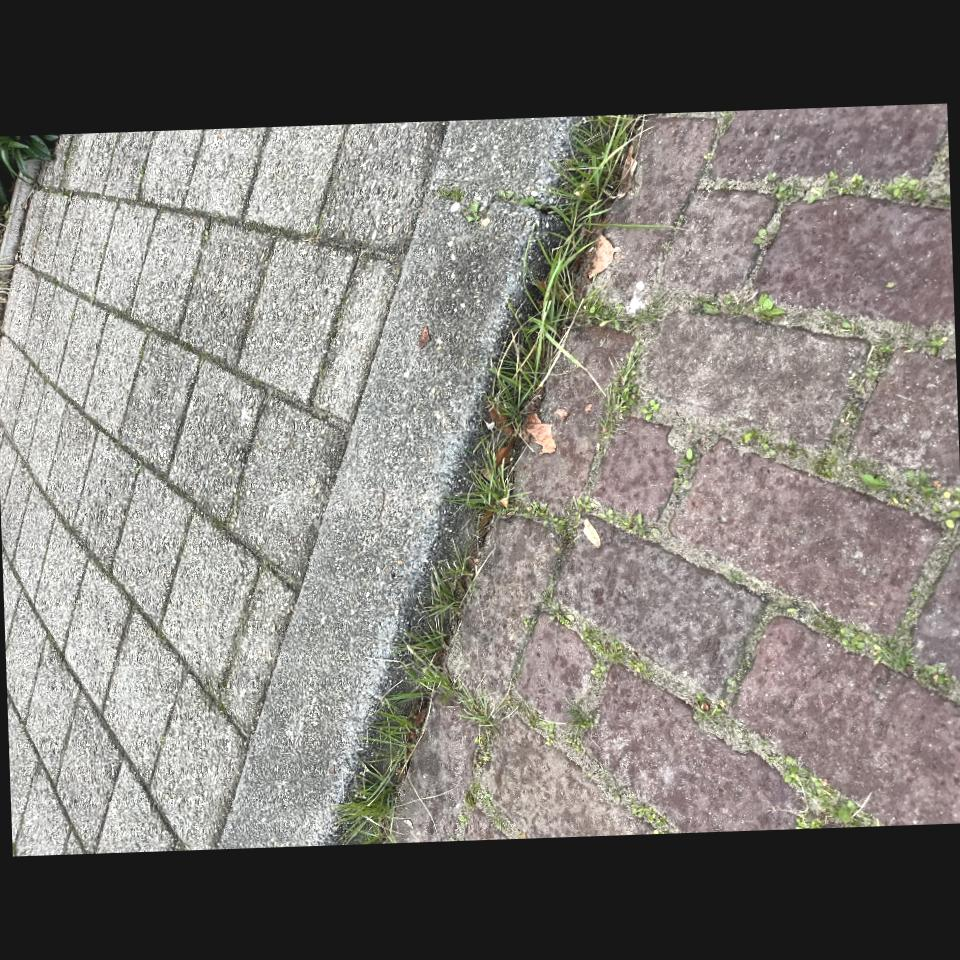weed: (488, 114, 642, 430), (333, 556, 470, 845), (453, 223, 579, 512), (840, 627, 960, 703), (766, 756, 879, 829), (759, 171, 950, 207), (577, 623, 656, 678), (577, 497, 661, 540), (524, 501, 576, 554), (468, 454, 509, 512), (455, 686, 497, 733)
